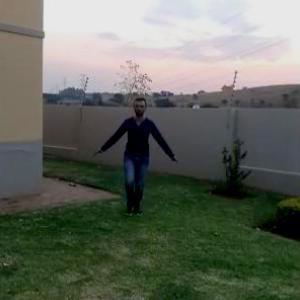land: (96, 95, 180, 216)
